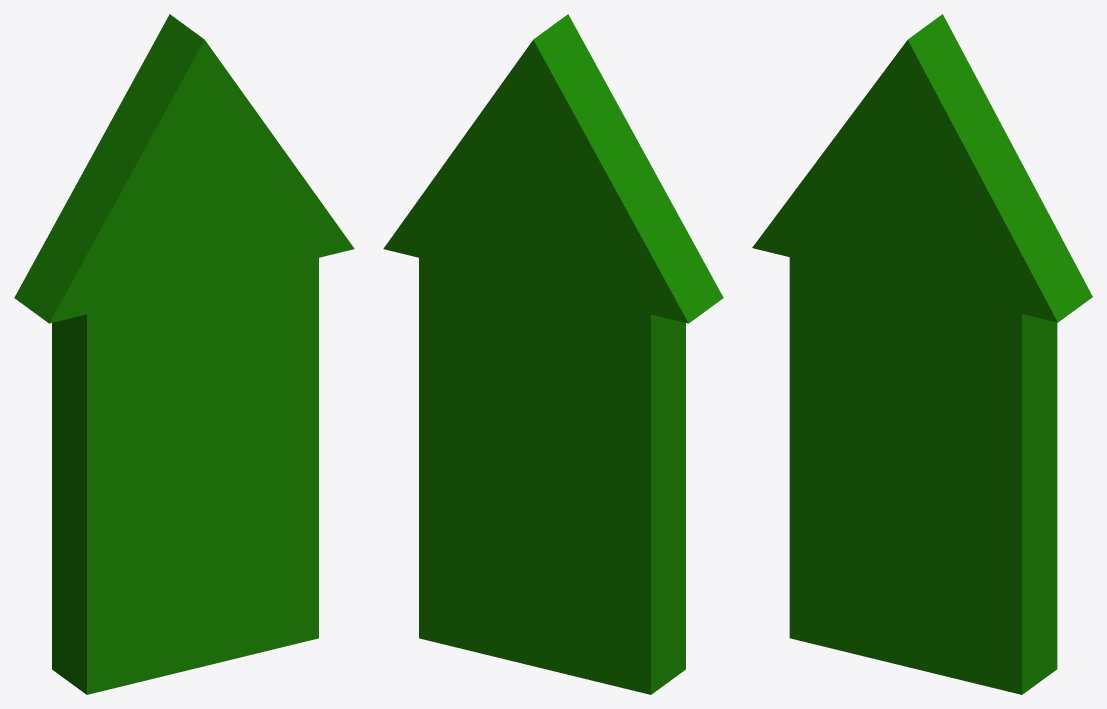
Rendered from Pointer.fbx.
3 views of the same model, side by side, from view 1: azimuth 30°, elevation 25°; view 2: azimuth 150°, elevation 25°; view 3: azimuth 330°, elevation 25° (orthographic).
Visible parts, largest first — view 1: pCube3; view 2: pCube3; view 3: pCube3.
Part boxes in pixels (x1,y1,x2,y2): pCube3: [14, 14, 354, 694]; pCube3: [383, 14, 723, 694]; pCube3: [752, 14, 1092, 694].
Bounding box in the file's own units: 2.36 × 4.63 × 0.469.
